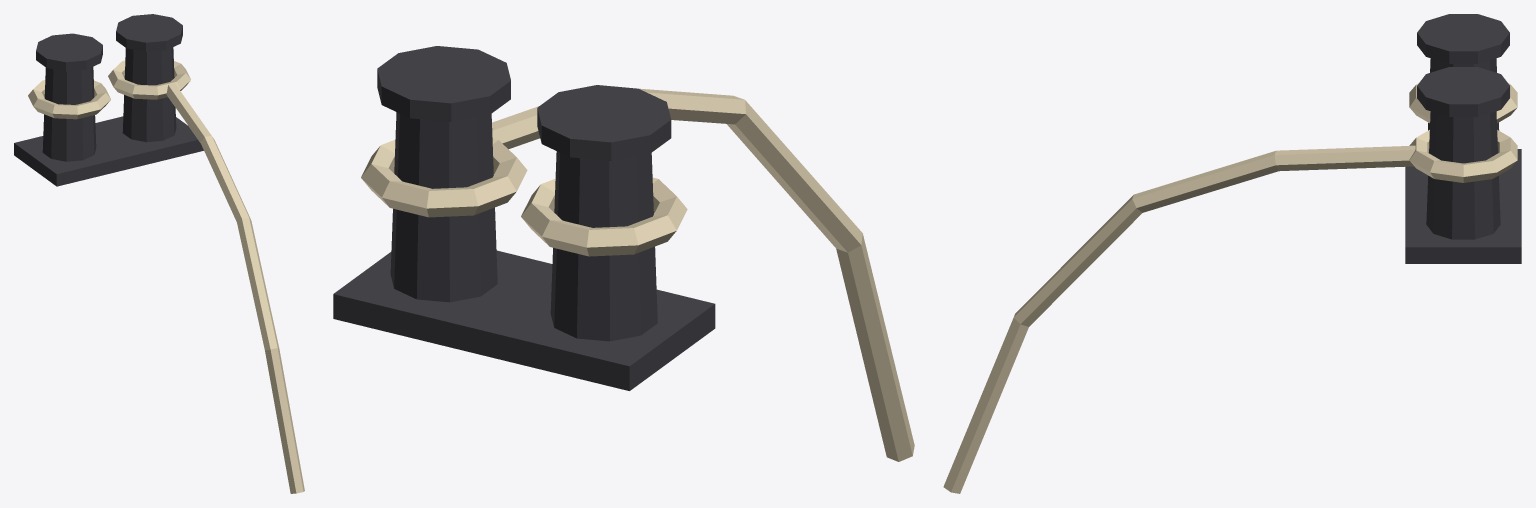
The model's file is CR_Bolardo.fbx.
The picture shows the model from 3 angles, left to right: view 1: azimuth 30°, elevation 25°; view 2: azimuth 150°, elevation 25°; view 3: azimuth 270°, elevation 25°; orthographic projection. The views are drawn at different scales.
Visible parts, largest first — view 1: CR_Bolardo; view 2: CR_Bolardo; view 3: CR_Bolardo.
Part boxes in pixels (bbox=[...]): CR_Bolardo: bbox=[14, 14, 304, 493]; CR_Bolardo: bbox=[333, 46, 914, 461]; CR_Bolardo: bbox=[943, 14, 1521, 493].
Bounding box in the file's own units: 1.03 × 2.05 × 2.49.
